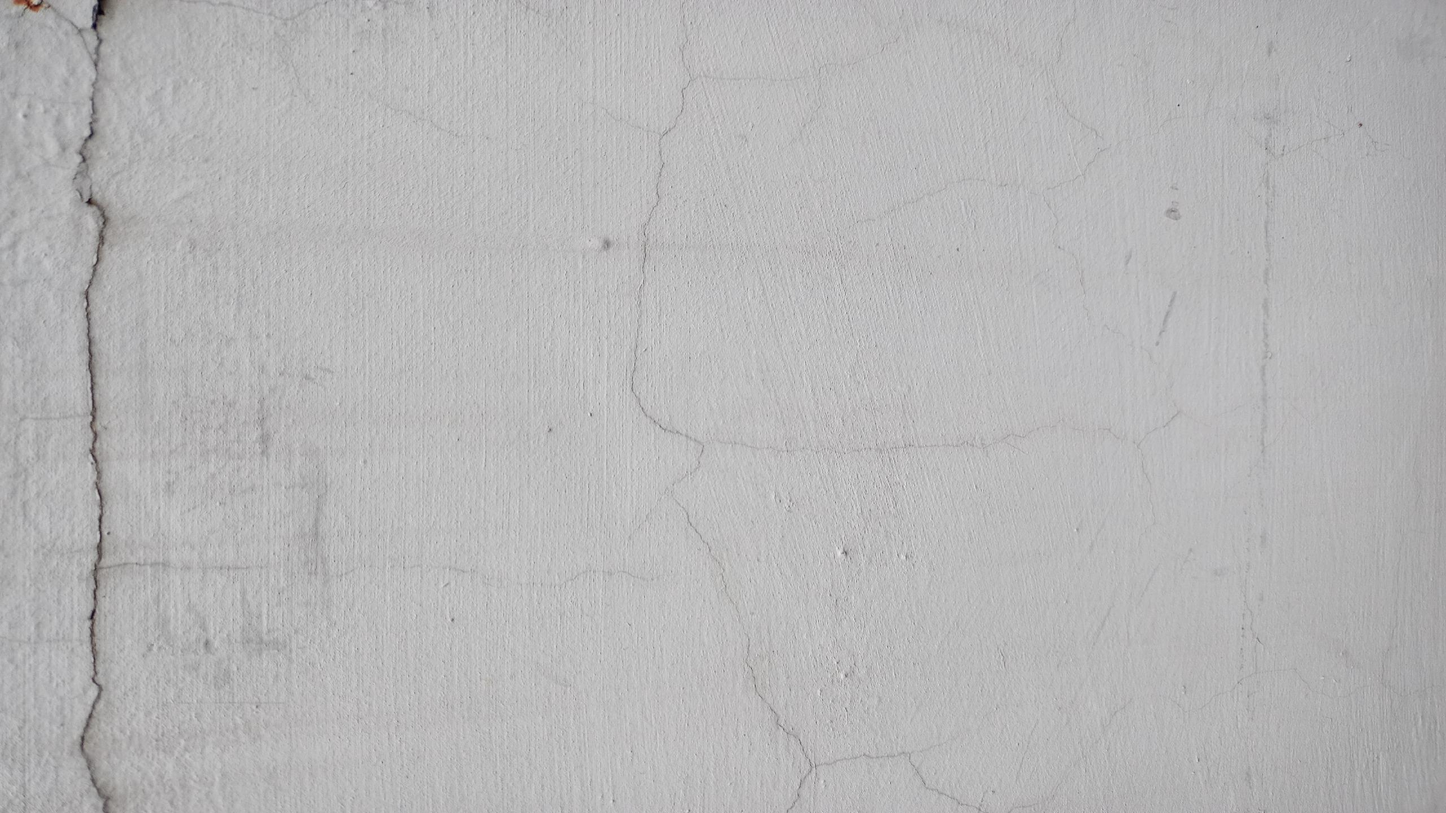crack: (79, 1, 107, 811)
